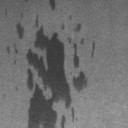red iron: (14, 14, 96, 128), (6, 22, 24, 66), (48, 0, 56, 11), (20, 12, 24, 18), (5, 9, 9, 14), (68, 14, 72, 19), (2, 93, 6, 98), (24, 0, 29, 3)
